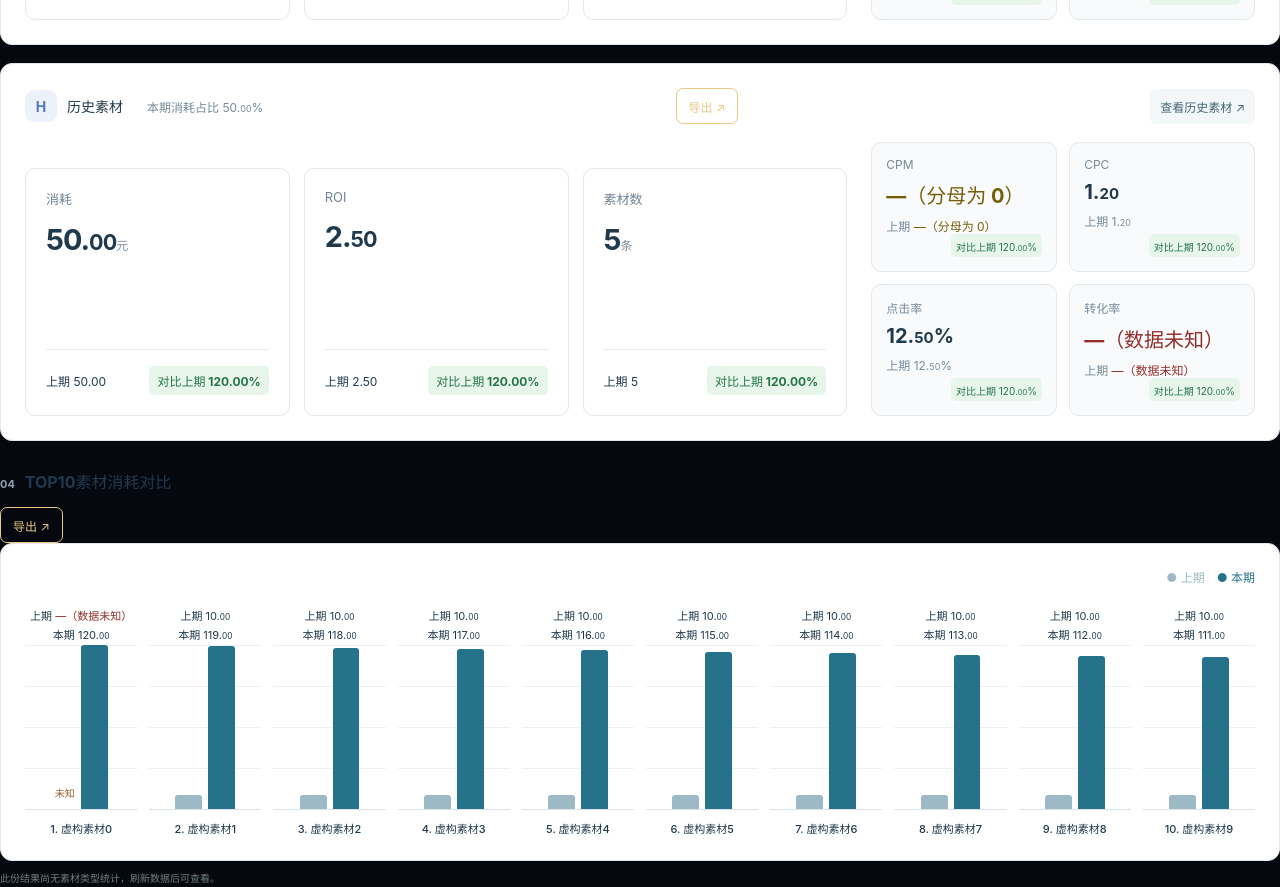
Scenario: period review v2 › labels the existing creation date as first delivery time without using first positive spend
(page scrolled)
Click the button "上期 —（数据未知） 本期 120.00 未知 1. 虚构素材0": (81, 722) 25,607 -> 137,836
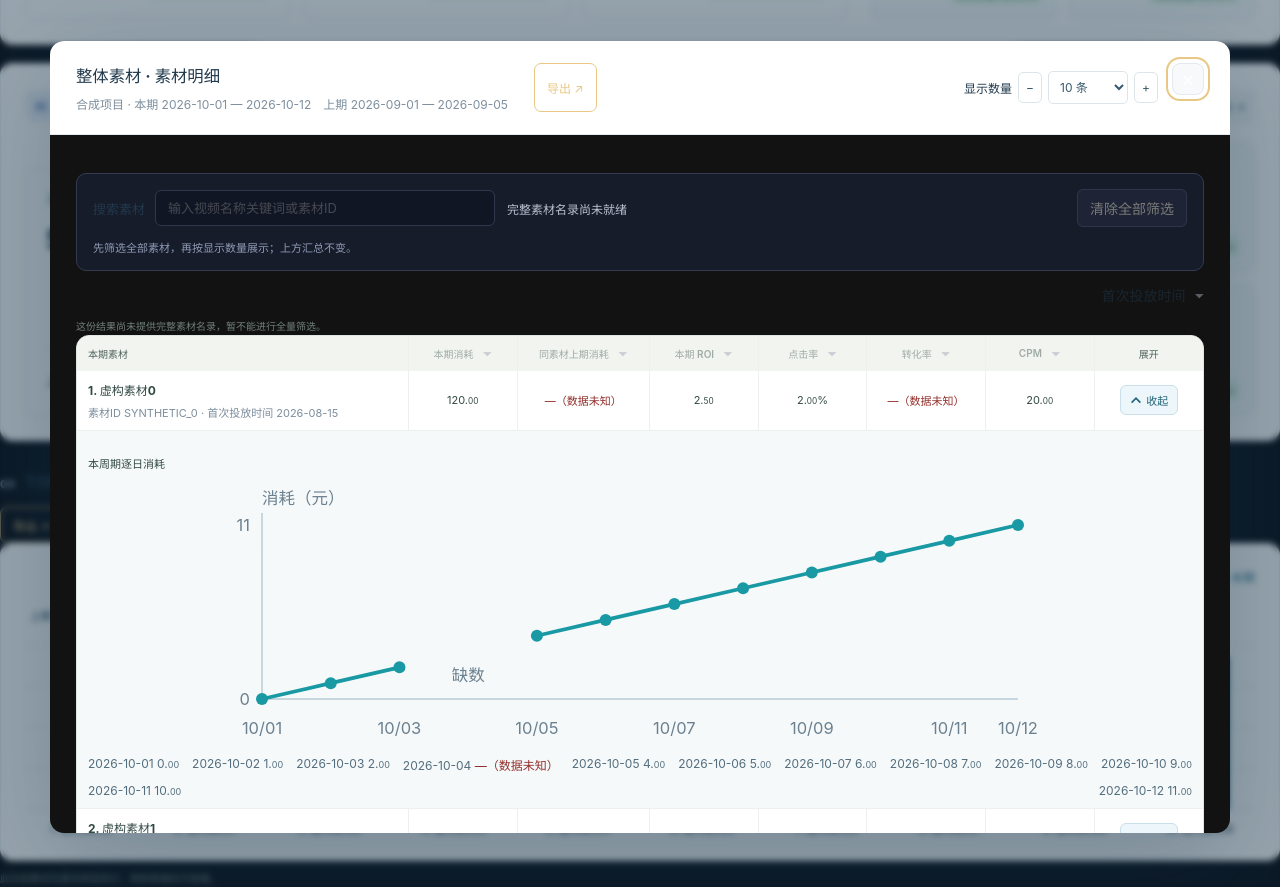
Expected: the text "2026-10-01" is not shown
Expected: the text "素材ID SYNTHETIC_0 · 首次投放时间 2026-08-15" is shown, 88,406 -> 338,420
